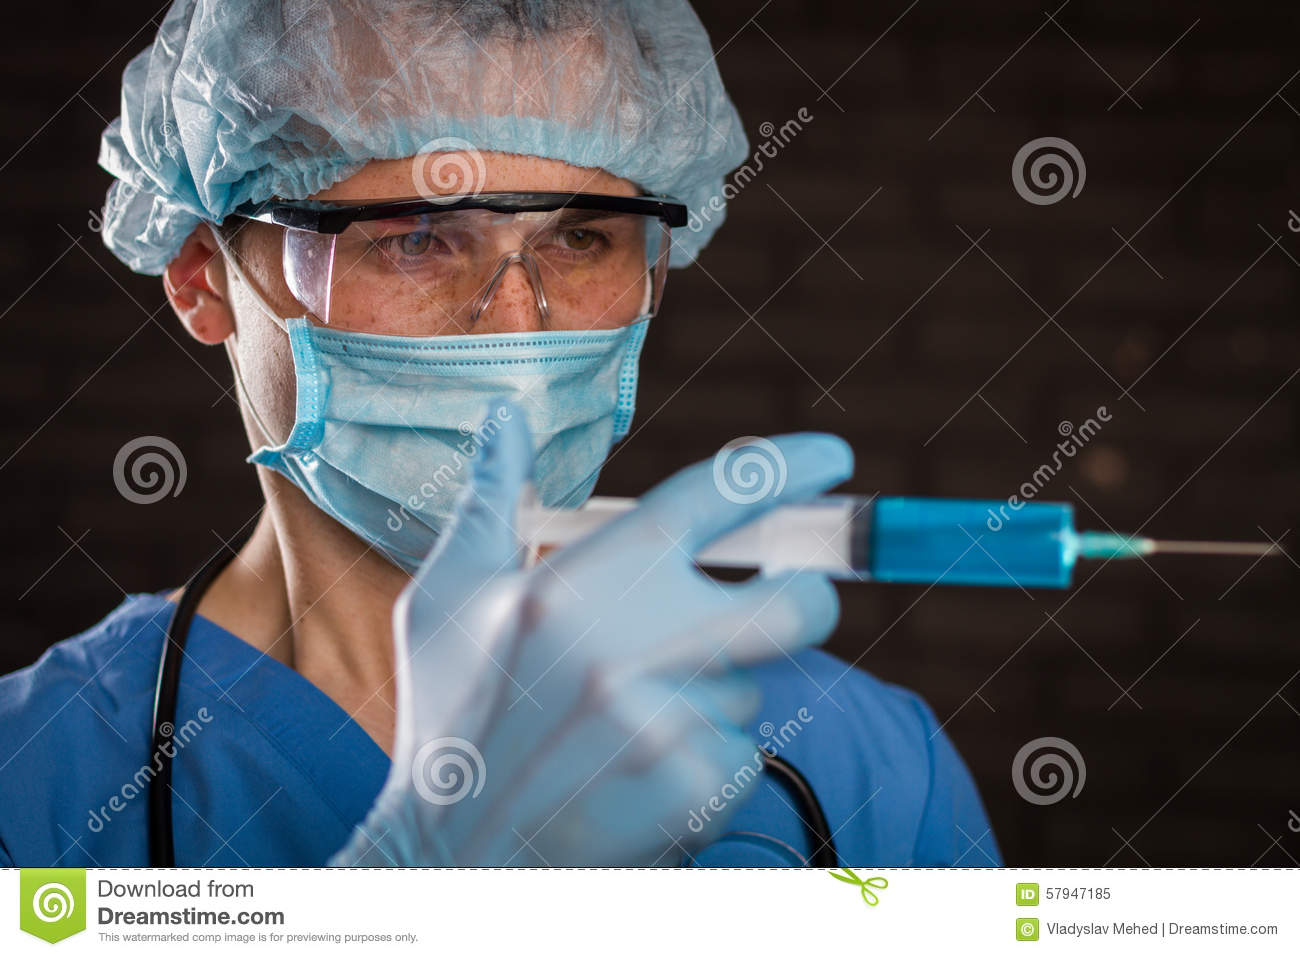mask: (255, 315, 644, 565)
